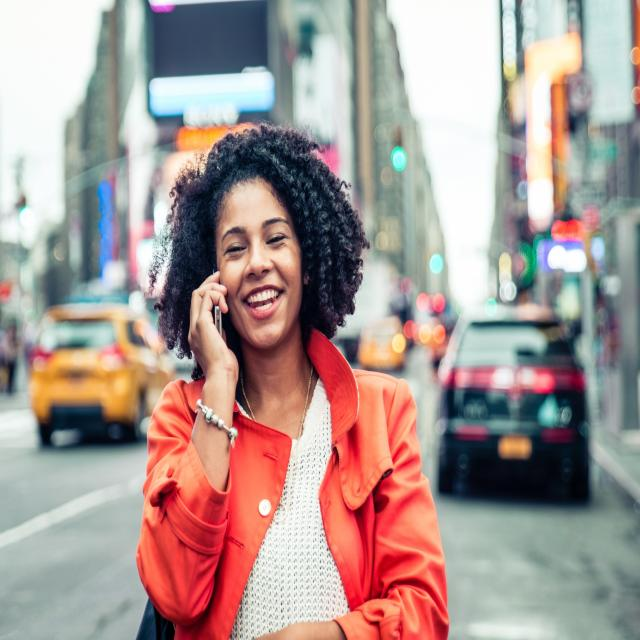phone: (185, 226, 263, 387)
